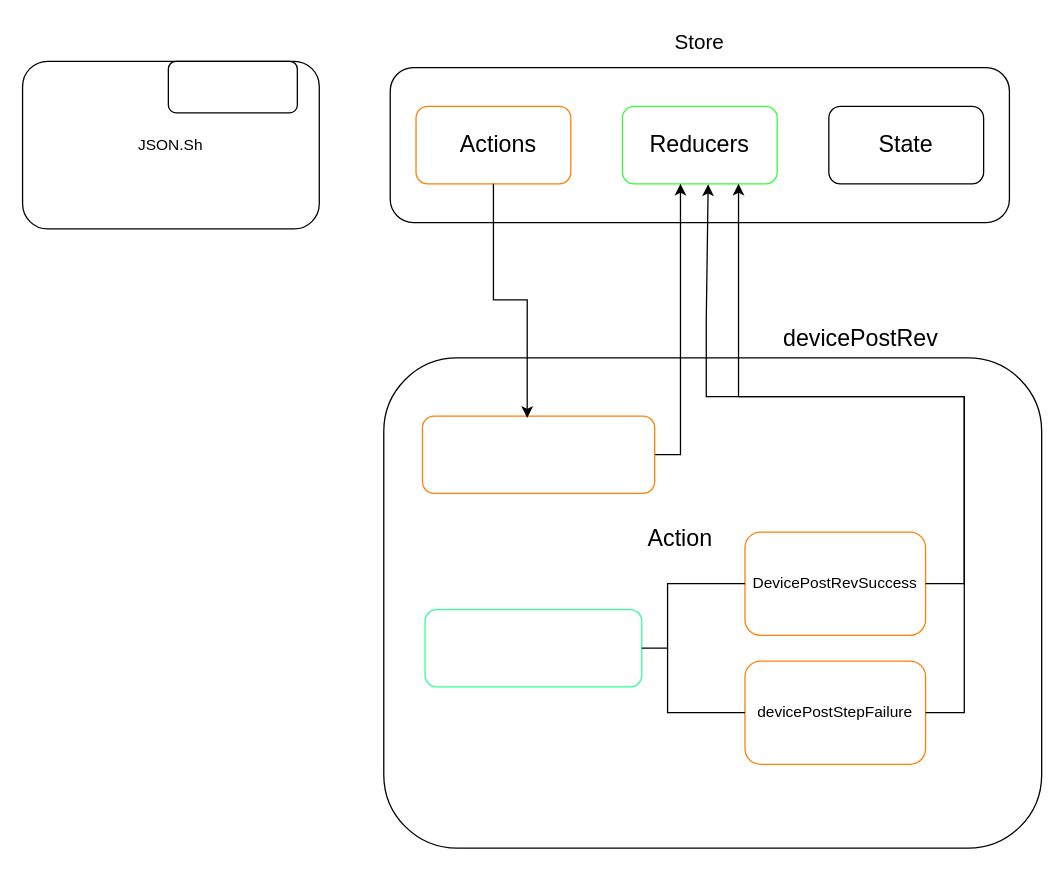
The diagram is 1064 pixels wide and 871 high, and some of its shapes have lost their labels. Each missing label, with the centre of its shape:
"devicePostRevInProgress" belongs at point (538, 454).
"Post Step (Service)" belongs at point (533, 647).
"saveState" belongs at point (232, 86).
